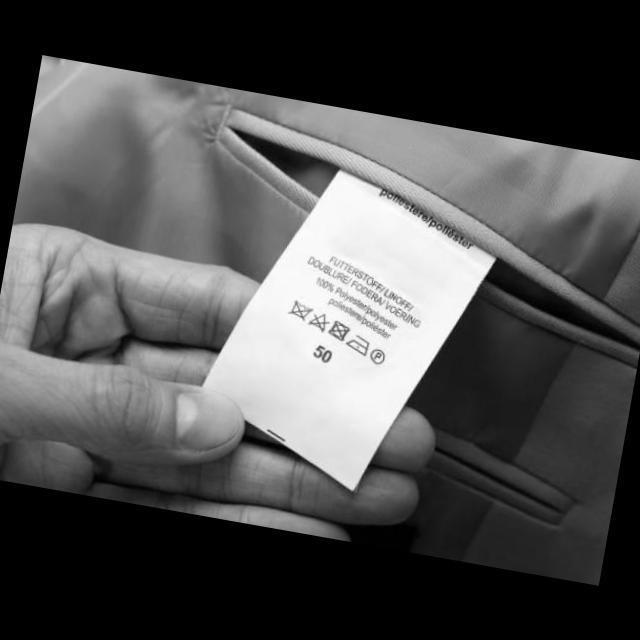DN_bleach: (306, 308, 332, 334)
DN_tumble_dry: (324, 317, 352, 344)
DN_wash: (285, 296, 316, 324)
iron_low: (344, 332, 371, 358)
normal_dry_clean_solvents: (366, 346, 387, 367)
